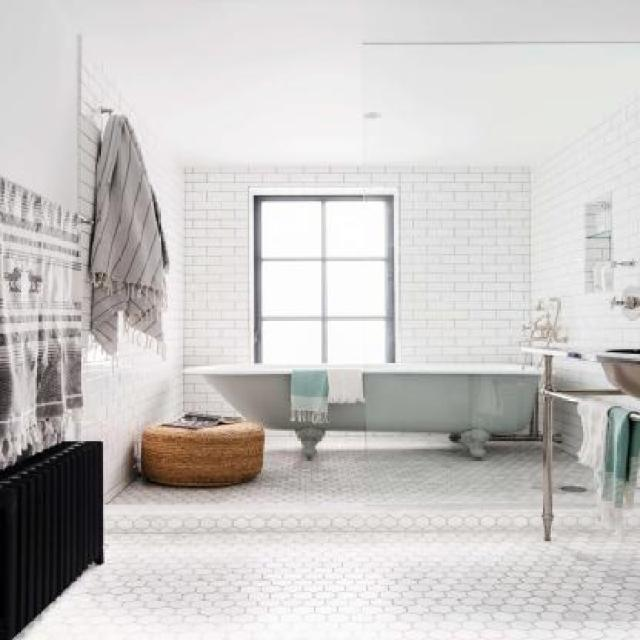floor: (9, 427, 640, 640)
